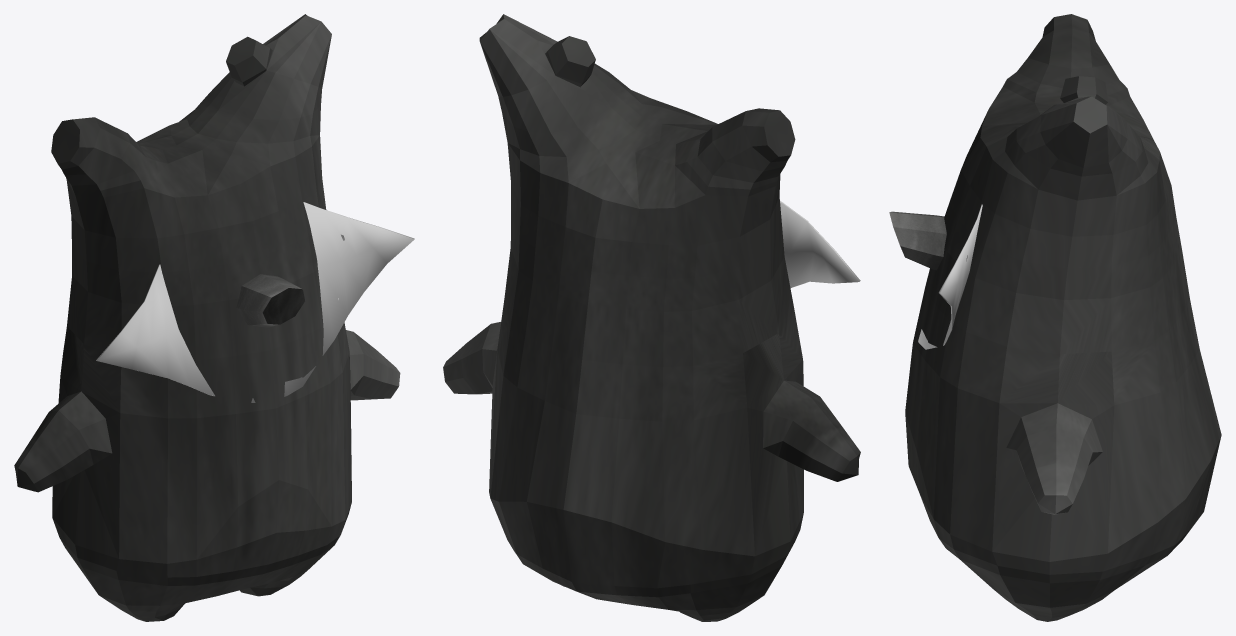
The model's file is frame_0076.obj.
The picture shows the model from 3 angles, left to right: view 1: azimuth 30°, elevation 25°; view 2: azimuth 150°, elevation 25°; view 3: azimuth 270°, elevation 25°; orthographic projection. The views are drawn at different scales.
Visible parts, largest first — view 1: korok, leaf, nose; view 2: korok, leaf; view 3: korok, nose, leaf.
Boxes of the visible parts, x1,y1,x2,y2 form: korok: (14, 14, 400, 621); leaf: (96, 202, 414, 402); nose: (236, 274, 304, 327); korok: (443, 14, 860, 621); leaf: (780, 201, 860, 288); korok: (905, 14, 1221, 621); nose: (889, 211, 946, 270); leaf: (918, 204, 982, 349).
Bounding box in the file's own units: 1.67 × 2.26 × 1.23.
